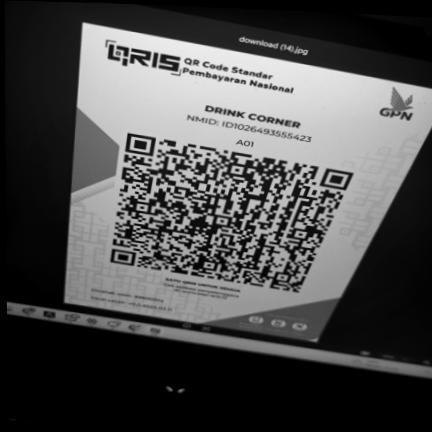Cara Pakai QRIS: (231, 305, 327, 341)
Cek Aplikasi Penyelenggara: (160, 281, 243, 303)
Dicetak Oleh: (89, 286, 168, 304)
Logo GPN: (367, 82, 431, 127)
Logo dan deskripsi QRIS: (98, 32, 307, 103)
Nama Merchant: (199, 101, 307, 131)
National Merchant ID: (180, 110, 318, 146)
QR Code: (105, 128, 360, 295)
Slogan: (163, 275, 243, 294)
Terminal ID: (231, 137, 259, 149)
Versi Cetak: (87, 293, 175, 313)
